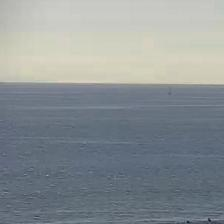surfer: (208, 218, 212, 222), (186, 220, 190, 224)
